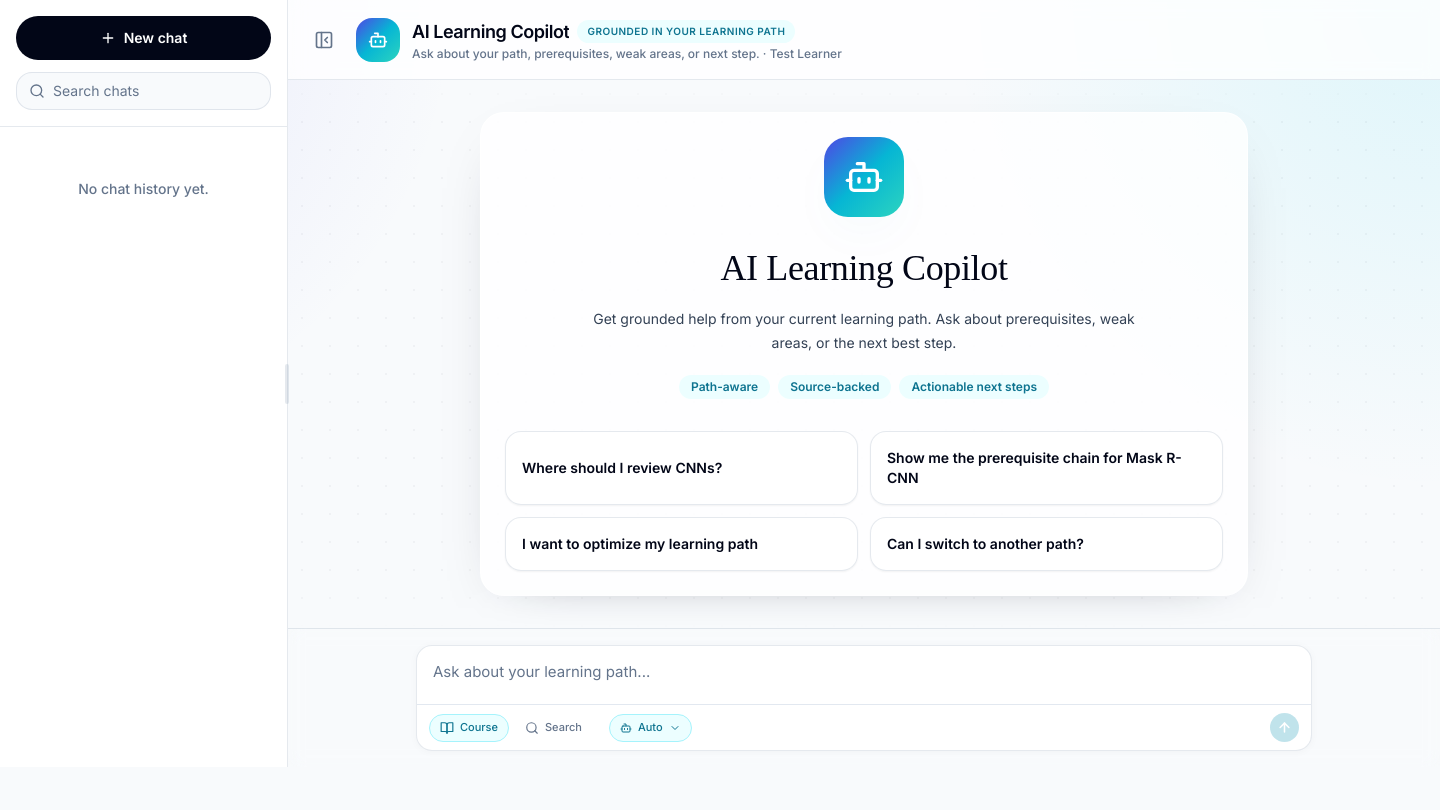
Test: agent page › renders external citation markdown links in a new tab without source cards
Type "Giải thích CNN" into the text box with placeholder "Ask about your learning path..." at (864, 672), box 417,646 -> 1311,698
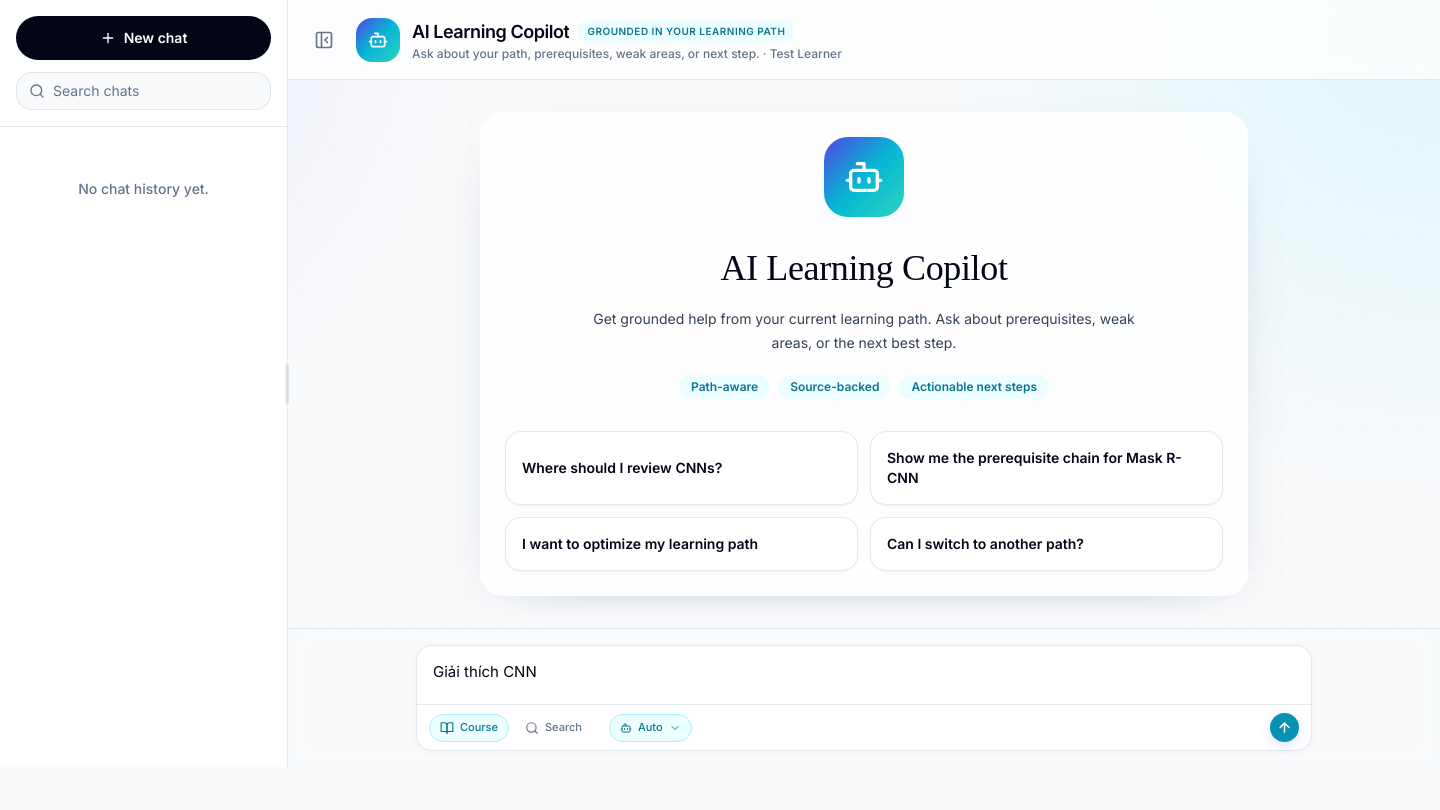
Click the button named "send message" at (1284, 728), box 1270,713 -> 1299,742
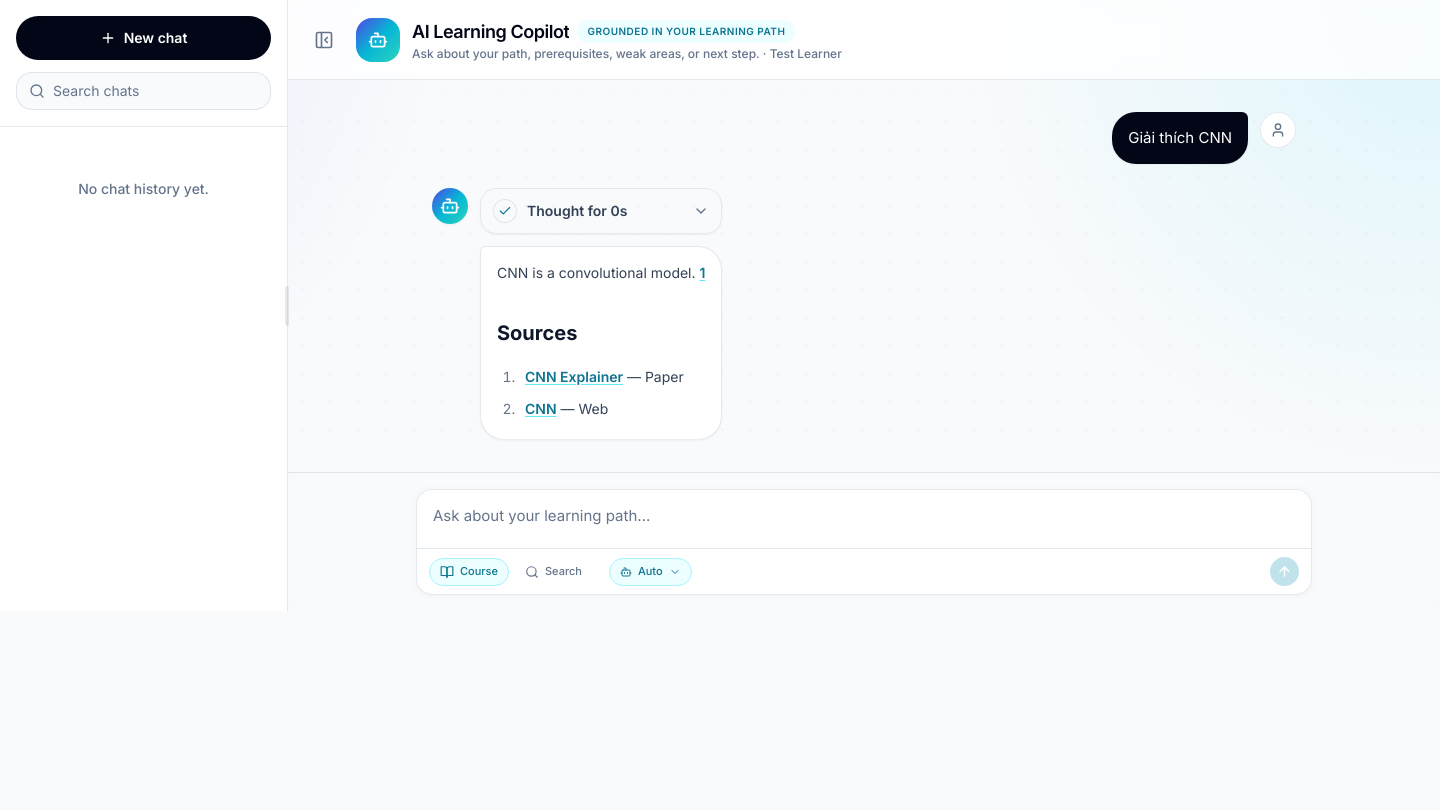
Check: the heading "Sources" is shown, box 497,321 -> 577,345
